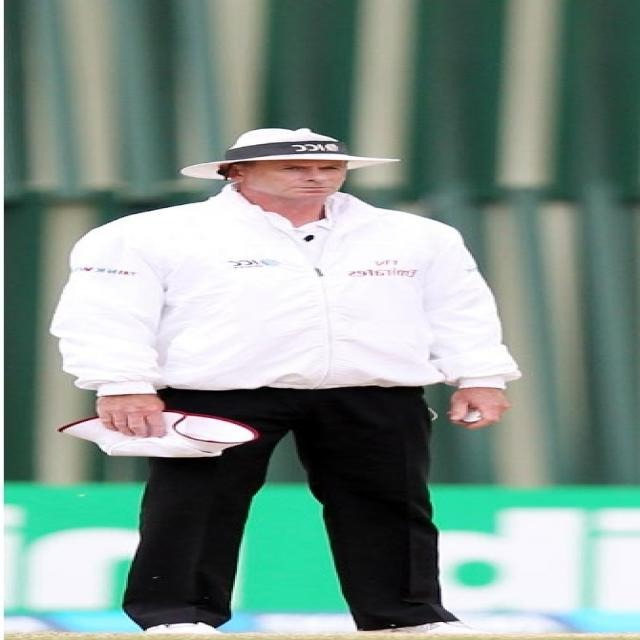No_Action: (41, 118, 520, 640)
